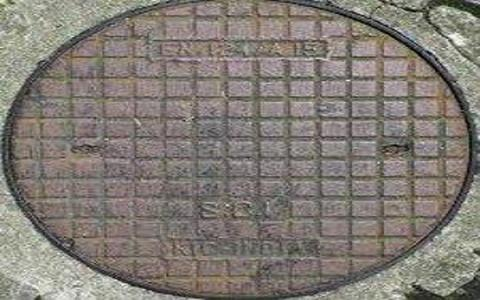proper manhole: (4, 1, 471, 296)
